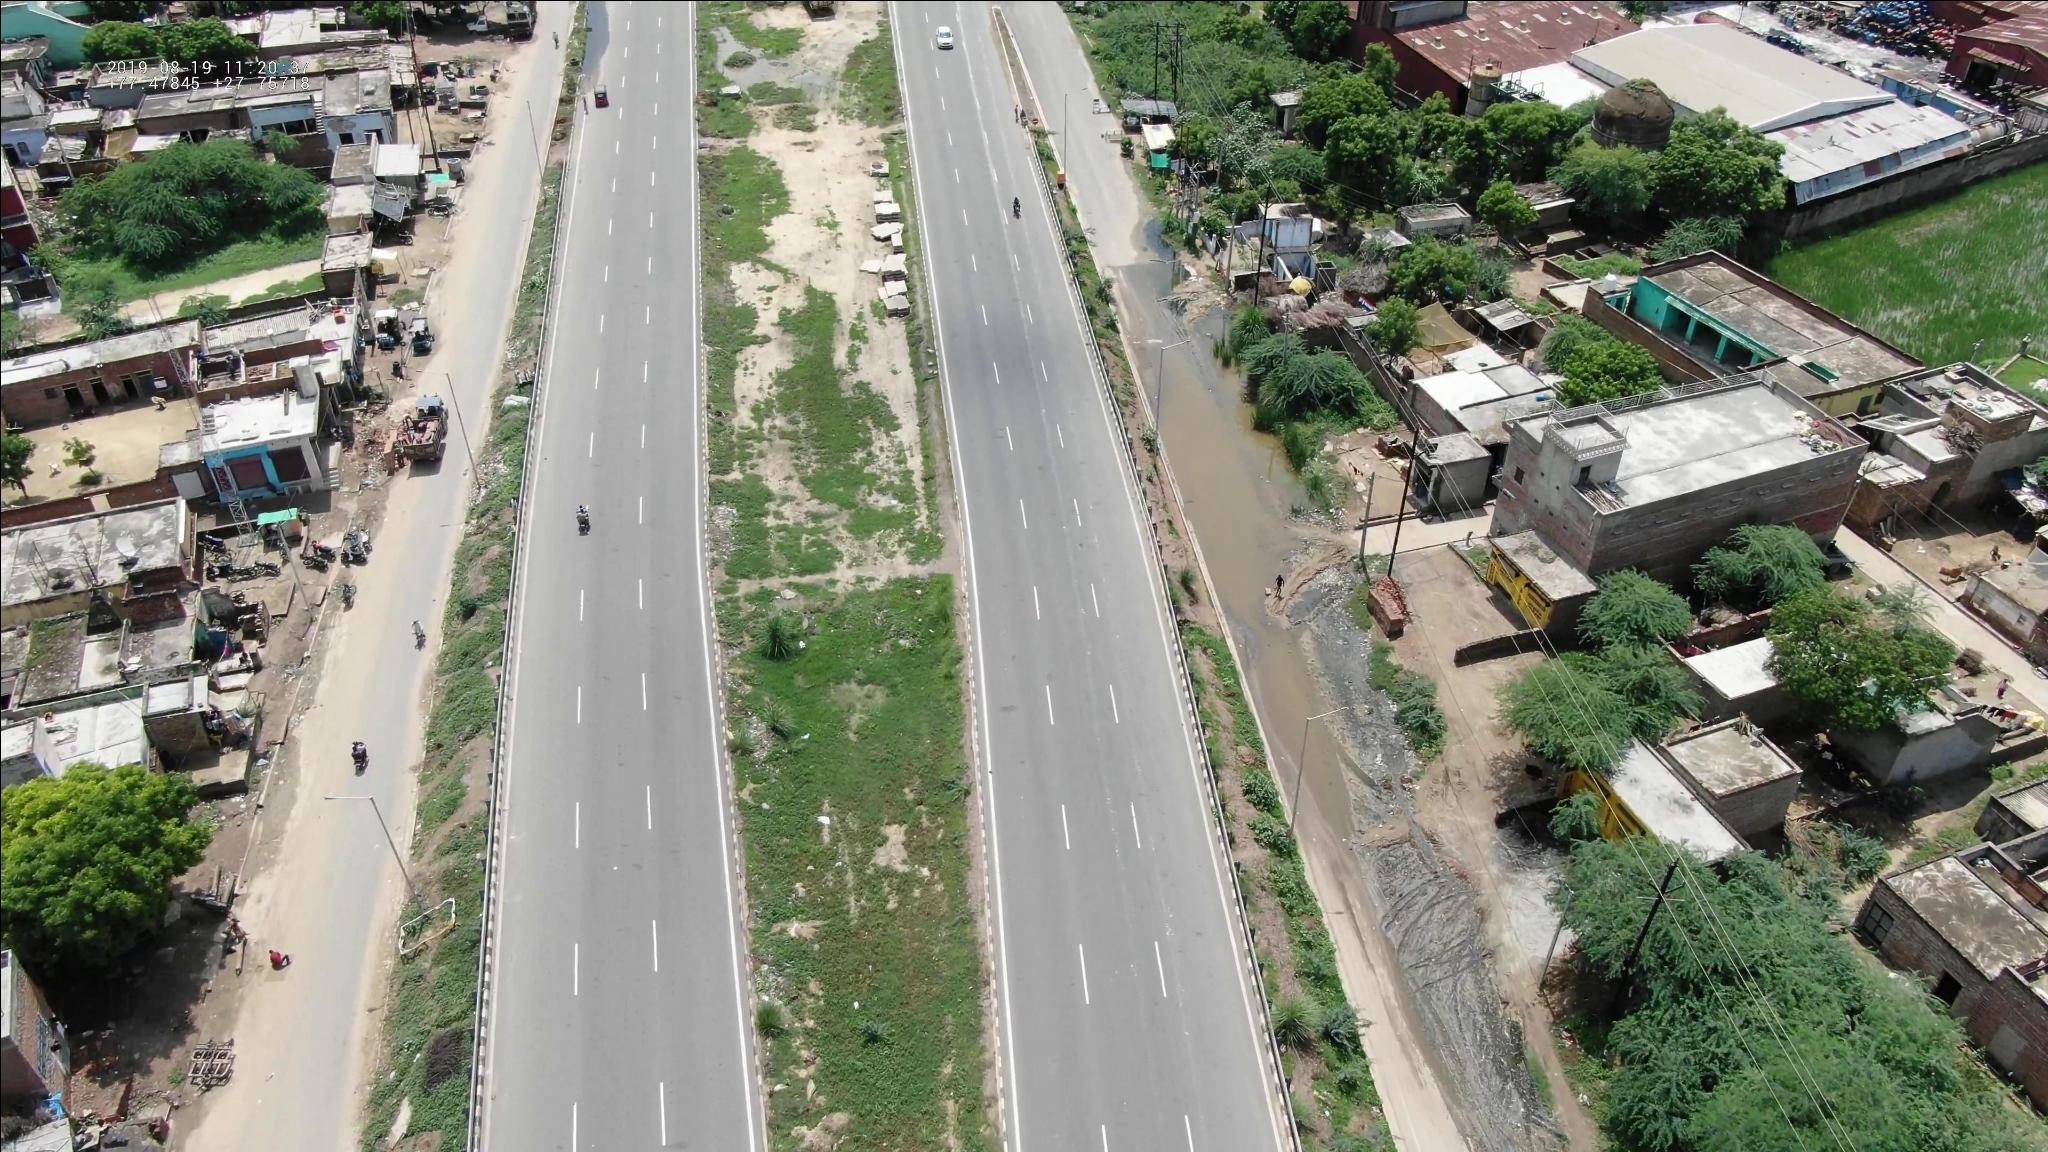Muddy_road: (1395, 858, 1513, 1114)
Waterlogging: (1129, 290, 1345, 792)
